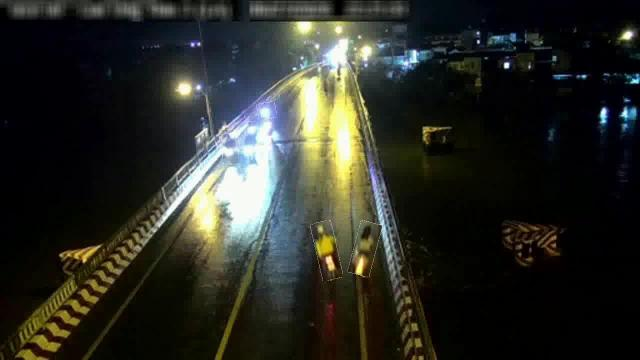Bike: (314, 221, 341, 281), (351, 222, 379, 276), (221, 133, 239, 165), (258, 102, 276, 120), (246, 122, 258, 136)
